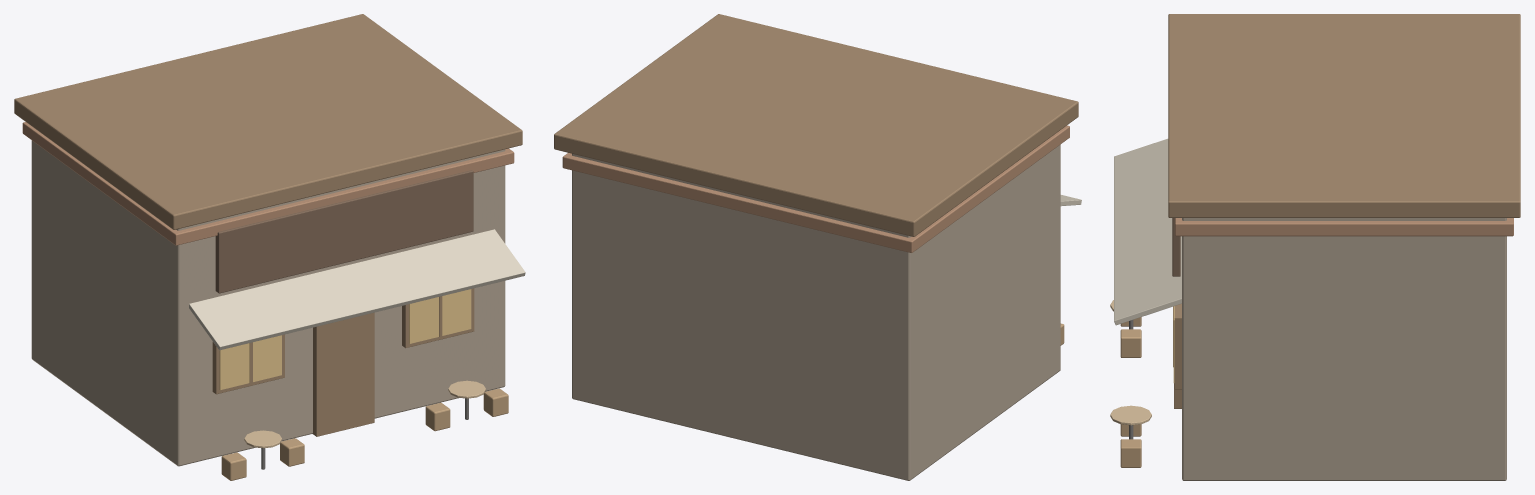
File: cafe.glb
3 views of the same model, side by side, from view 1: azimuth 30°, elevation 25°; view 2: azimuth 150°, elevation 25°; view 3: azimuth 270°, elevation 25° (orthographic). The views are drawn at different scales.
Visible parts, largest first — view 1: Roof, Body, CafeAwn, SignBoard, Door, Cornice, CafeWin, CafeWin.001, WinFrame, WinFrame.001, Chair, Chair.002 (+4 smaller); view 2: Body, Roof, Cornice; view 3: Body, Roof, CafeAwn, Cornice, WinFrame.001, Table.001, Chair.001, Chair.003.
Part boxes in pixels (left/top/right/bottom): Roof: left=14, top=14, right=522, bottom=229; Body: left=31, top=140, right=505, bottom=466; CafeAwn: left=189, top=229, right=525, bottom=350; SignBoard: left=215, top=170, right=473, bottom=293; Door: left=312, top=312, right=374, bottom=436; Cornice: left=22, top=122, right=514, bottom=245; CafeWin: left=219, top=335, right=281, bottom=390; CafeWin.001: left=409, top=289, right=471, bottom=343; WinFrame: left=212, top=334, right=284, bottom=394; WinFrame.001: left=402, top=288, right=474, bottom=348; Chair: left=221, top=452, right=246, bottom=480; Chair.002: left=425, top=402, right=450, bottom=431; Body: left=572, top=144, right=1060, bottom=480; Roof: left=554, top=14, right=1078, bottom=236; Cornice: left=562, top=125, right=1069, bottom=252; Body: left=1182, top=218, right=1506, bottom=480; Roof: left=1168, top=14, right=1520, bottom=217; CafeAwn: left=1114, top=138, right=1181, bottom=325; Cornice: left=1175, top=218, right=1513, bottom=236; WinFrame.001: left=1174, top=303, right=1181, bottom=389; Table.001: left=1110, top=405, right=1151, bottom=425; Chair.001: left=1120, top=329, right=1141, bottom=357; Chair.003: left=1120, top=439, right=1141, bottom=467.
Bounding box in the file's own units: 9.6 × 6.8 × 8.85.
